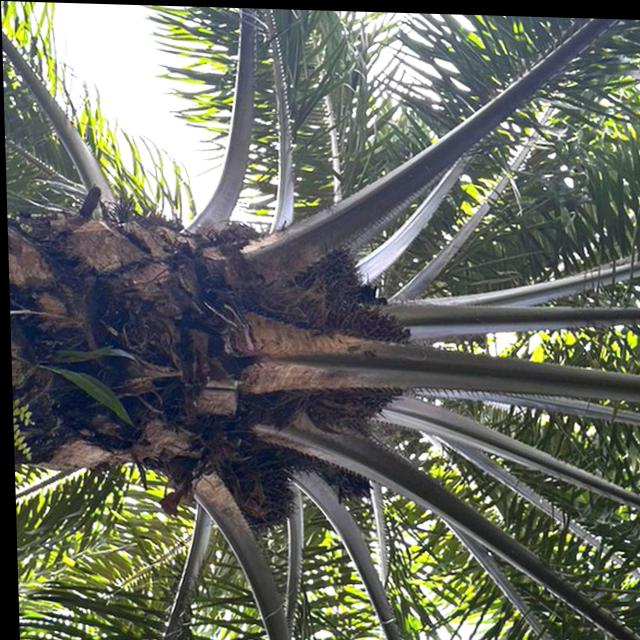ripe: (294, 301, 420, 412), (208, 444, 292, 528), (289, 239, 367, 300)
